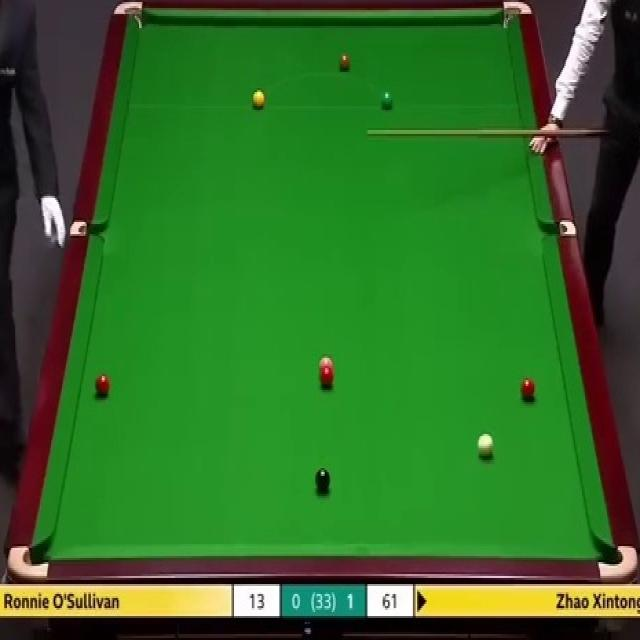black-ball: (314, 468, 332, 490)
brown-ball: (338, 55, 350, 74)
green-ball: (380, 89, 393, 110)
pink-ball: (318, 356, 333, 370)
red-ball: (518, 376, 536, 401), (94, 372, 111, 397), (321, 367, 334, 387)
white-ball: (476, 434, 495, 462)
yellow-ball: (251, 89, 265, 110)
